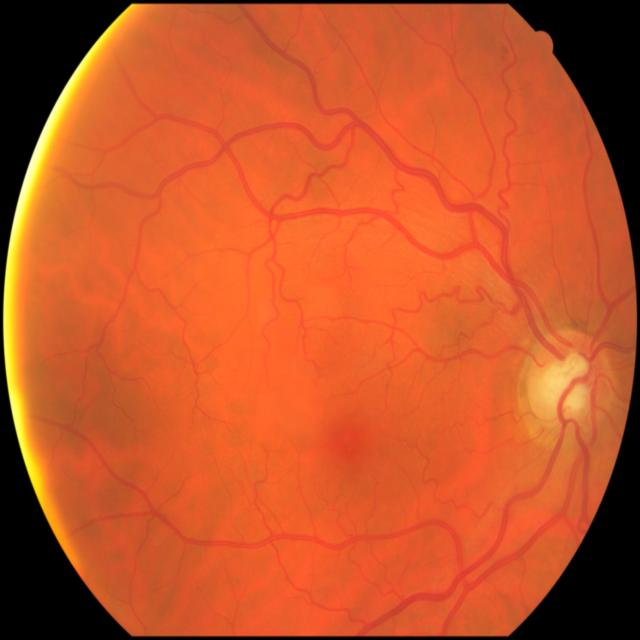OC: (540, 354, 589, 411)
OD: (517, 329, 616, 453)
